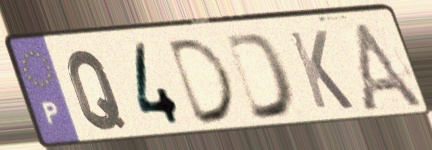4: (131, 39, 185, 130)
A: (351, 18, 430, 111)
D: (221, 30, 299, 123), (165, 34, 239, 128)
K: (284, 27, 358, 112)
Q: (65, 47, 130, 134)
